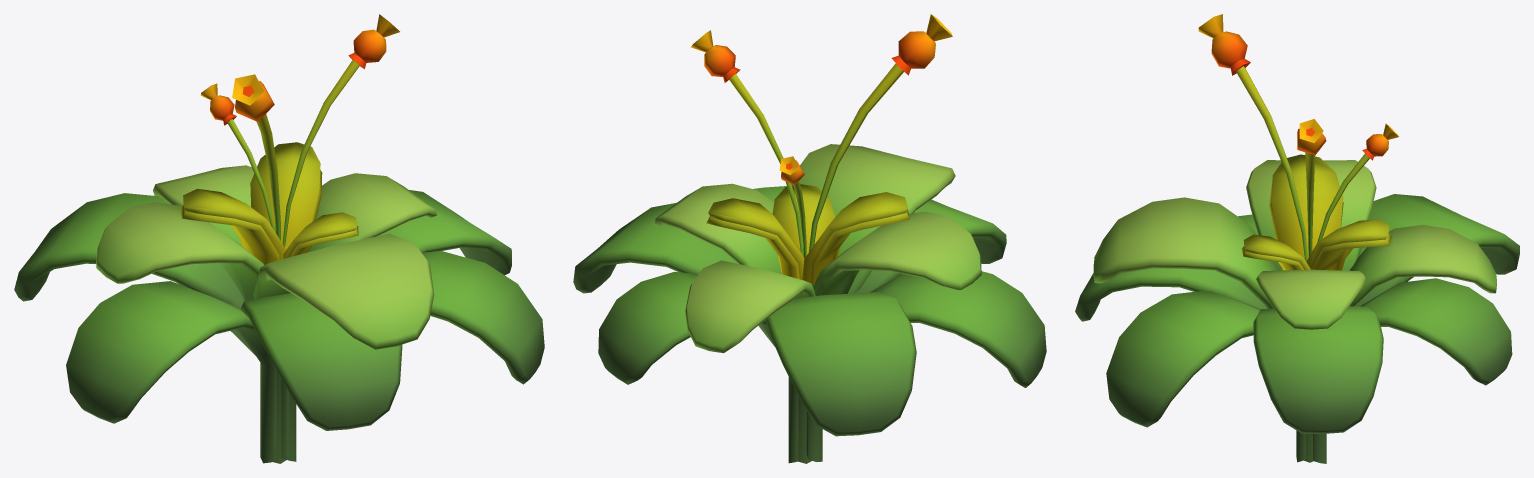
The model's file is plant_7.fbx.
3 renders of one model, left to right at view 1: azimuth 30°, elevation 25°; view 2: azimuth 150°, elevation 25°; view 3: azimuth 270°, elevation 25°, orthographic. The views are drawn at different scales.
Parts seen in each view (by area): view 1: plant_7; view 2: plant_7; view 3: plant_7.
Part boxes in pixels (bbox=[...]): plant_7: bbox=[14, 14, 544, 463]; plant_7: bbox=[573, 14, 1046, 463]; plant_7: bbox=[1075, 14, 1519, 463].
Bounding box in the file's own units: 106 × 103 × 101.
